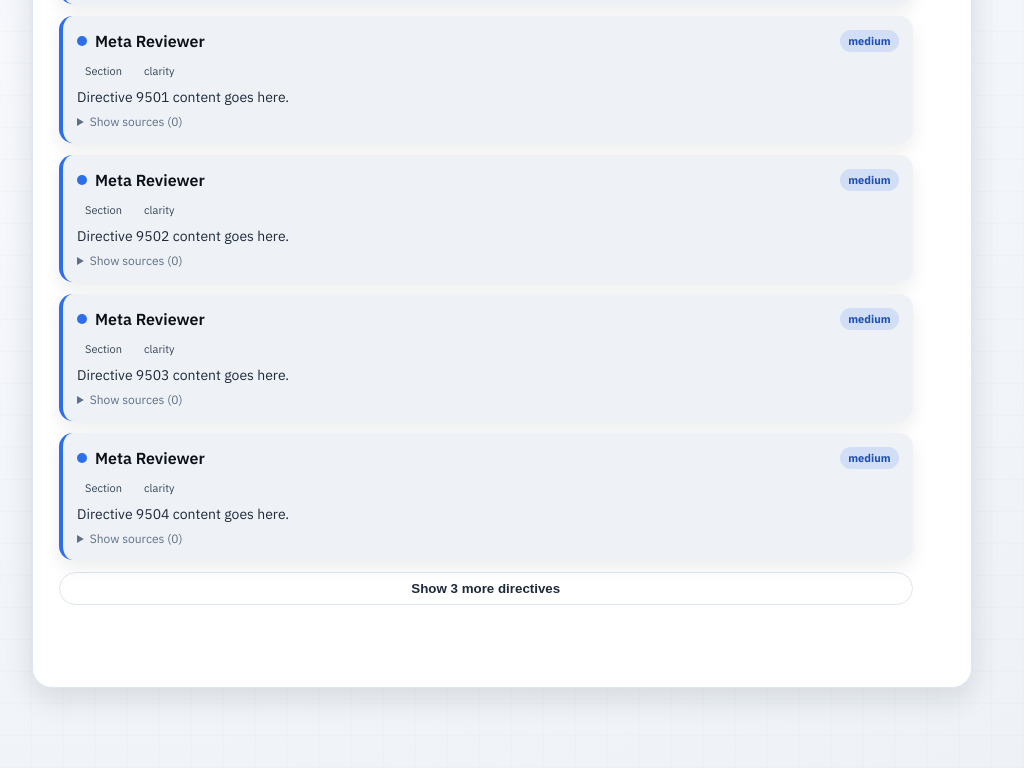
Test: meta directive disclosure › renders at most 5 directive cards by default and reveals the rest behind a toggle
(page scrolled)
Clicking expands the full list.
Click the button "Show 3 more directives". click: click(486, 588)
box: [59,572,912,605]
(page scrolled)
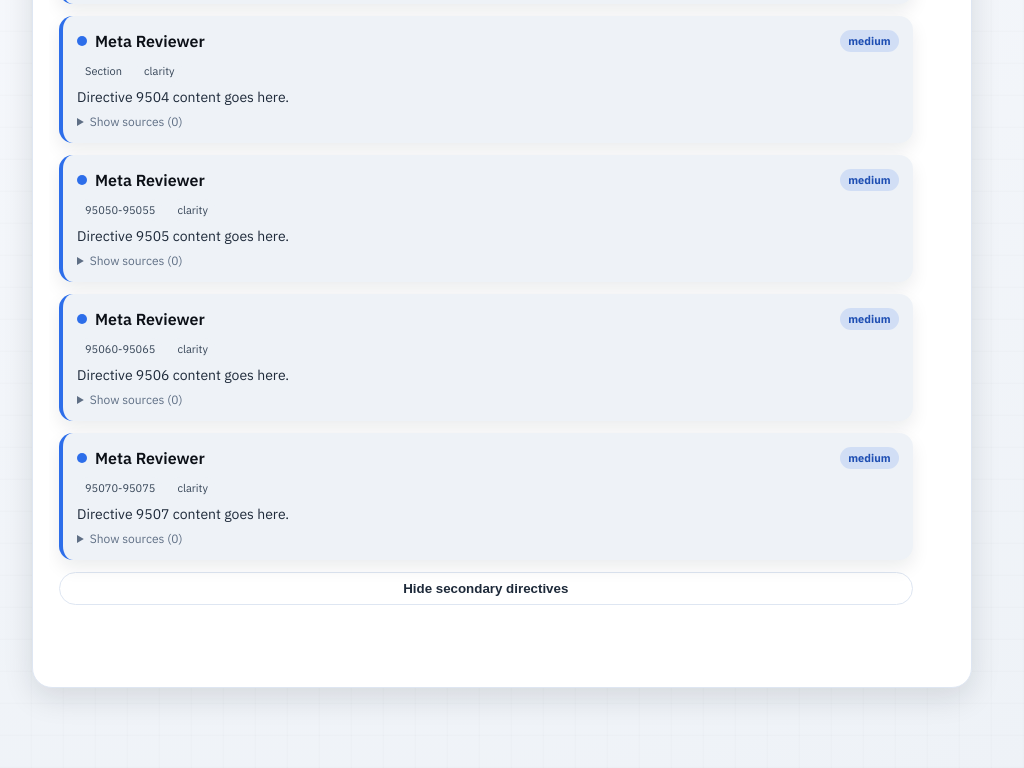
Check: the number of elements with class "comment-card" is 8
Check: the button "Hide secondary directives" is shown, box [59,572,912,605]
